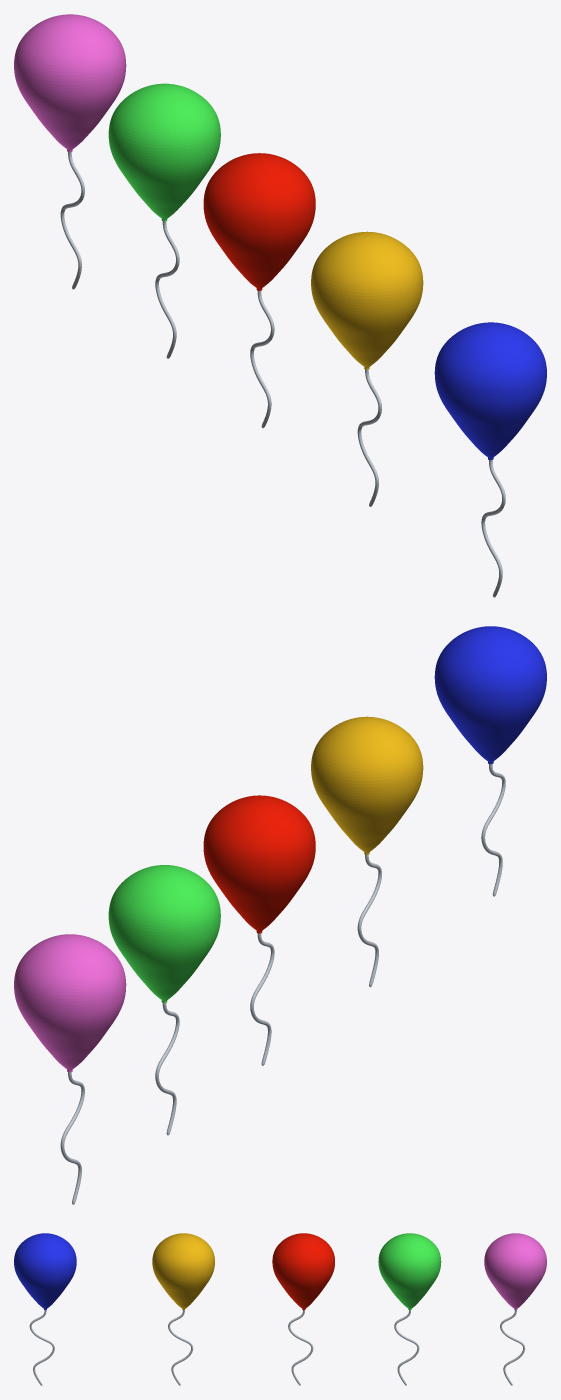
File: globos .fbx
3 renders of one model, top to bottom at view 1: azimuth 30°, elevation 25°; view 2: azimuth 150°, elevation 25°; view 3: azimuth 270°, elevation 25°, orthographic. The views are drawn at different scales.
Visible parts, largest first — view 1: Sphere.001, Sphere, Sphere.003, Sphere.004, Sphere.002; view 2: Sphere.001, Sphere, Sphere.004, Sphere.002, Sphere.003; view 3: Sphere.001, Sphere.002, Sphere.003, Sphere, Sphere.004.
Part boxes in pixels (bbox=[...]): Sphere.001: bbox=[108, 83, 220, 358]; Sphere: bbox=[203, 153, 315, 428]; Sphere.003: bbox=[311, 231, 423, 506]; Sphere.004: bbox=[434, 322, 546, 597]; Sphere.002: bbox=[14, 14, 126, 289]; Sphere.001: bbox=[108, 865, 220, 1135]; Sphere: bbox=[203, 795, 315, 1065]; Sphere.004: bbox=[434, 626, 546, 896]; Sphere.002: bbox=[14, 934, 126, 1204]; Sphere.003: bbox=[311, 716, 423, 987]; Sphere.001: bbox=[378, 1233, 441, 1385]; Sphere.002: bbox=[484, 1233, 546, 1385]; Sphere.003: bbox=[152, 1233, 214, 1385]; Sphere: bbox=[272, 1233, 334, 1385]; Sphere.004: bbox=[14, 1233, 76, 1385].
Size of the model in its own units: 182 by 478 by 1547.
